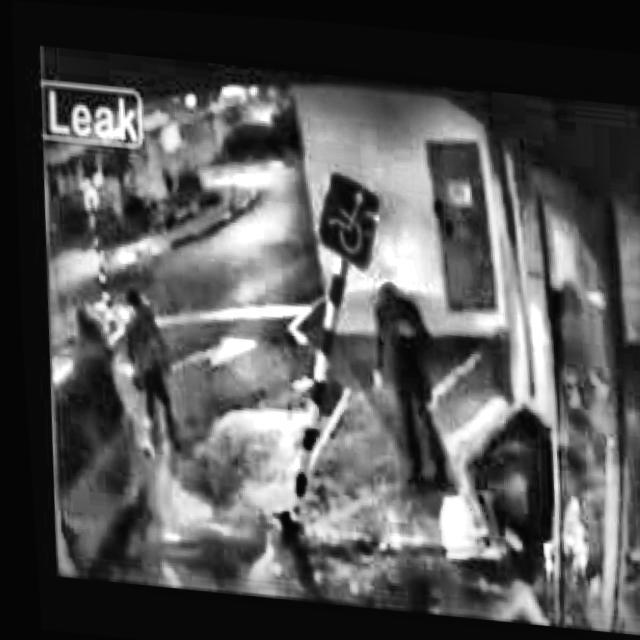Weapon: (115, 283, 271, 446), (365, 266, 461, 524)
